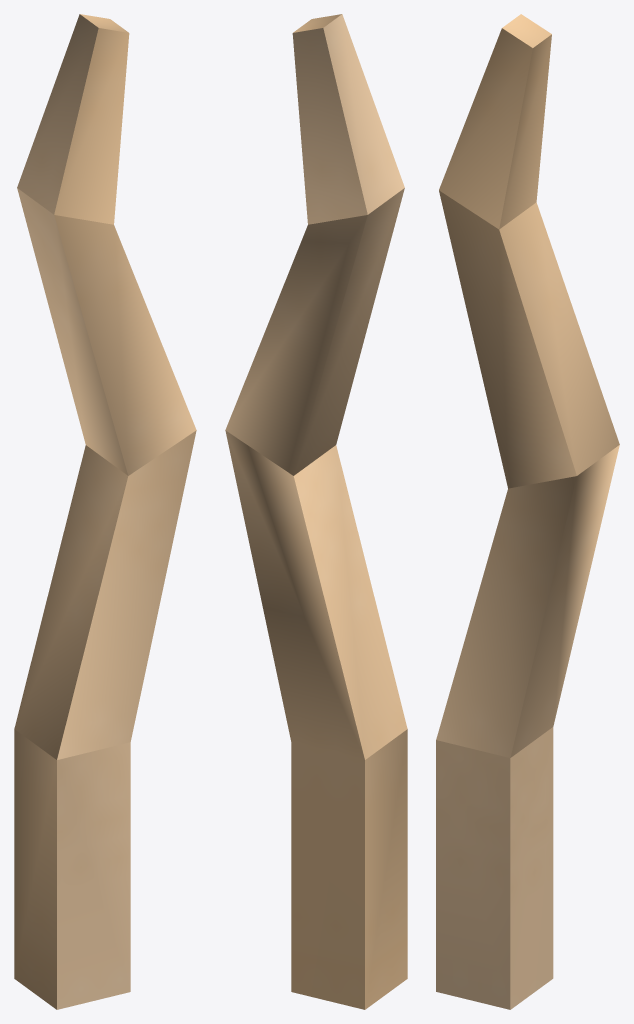
File: varita_basic.fbx
The picture shows the model from 3 angles, left to right: view 1: azimuth 30°, elevation 25°; view 2: azimuth 150°, elevation 25°; view 3: azimuth 330°, elevation 25°; orthographic projection.
Parts seen in each view (by area): view 1: varita_basic; view 2: varita_basic; view 3: varita_basic.
Boxes of the visible parts, x1,y1,x2,y2 form: varita_basic: [14, 14, 196, 1009]; varita_basic: [225, 14, 407, 1009]; varita_basic: [436, 14, 619, 1009].
Size of the model in its own units: 15.76 by 104 by 8.32.
1 material, 1 textured.
